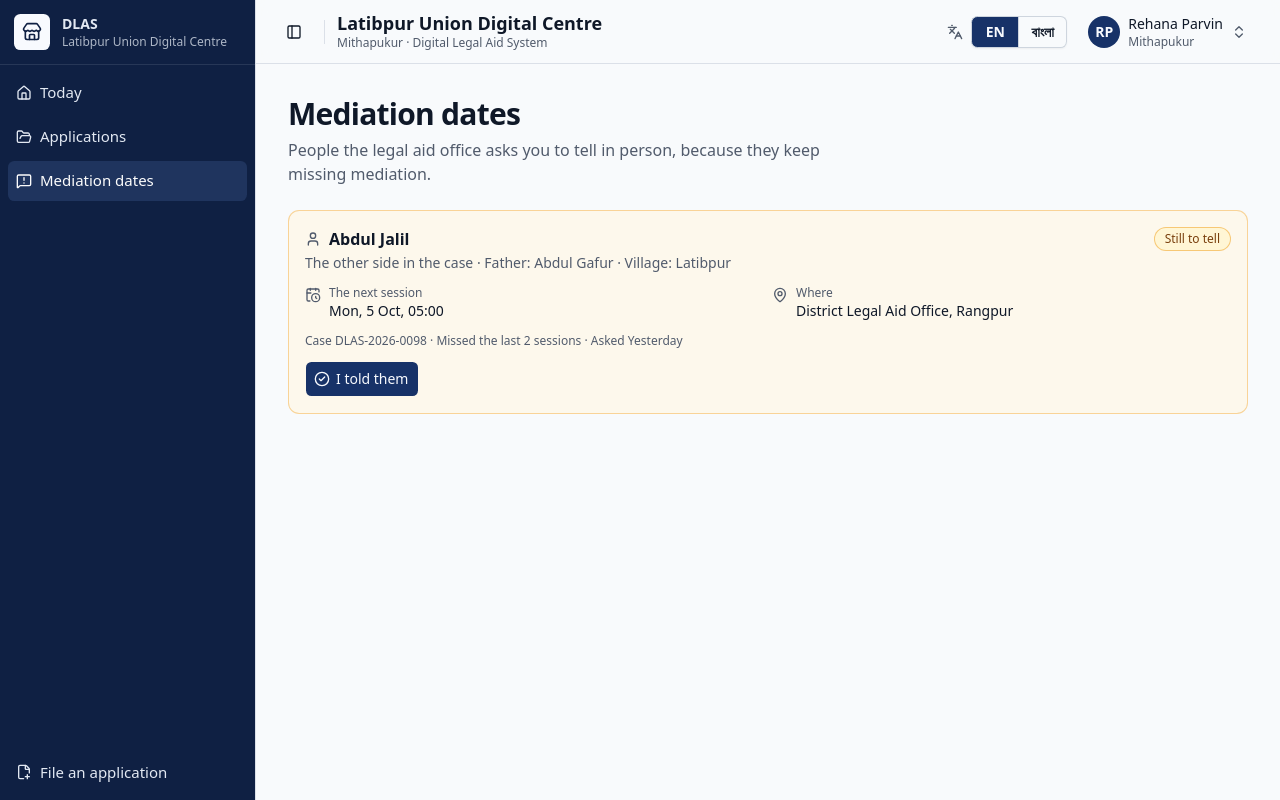
it: with a backend › marks a mediation date as passed on, with the note in the body
Click the button "I told them" at coordinates (362, 379), box left=305, top=361, right=420, bottom=397
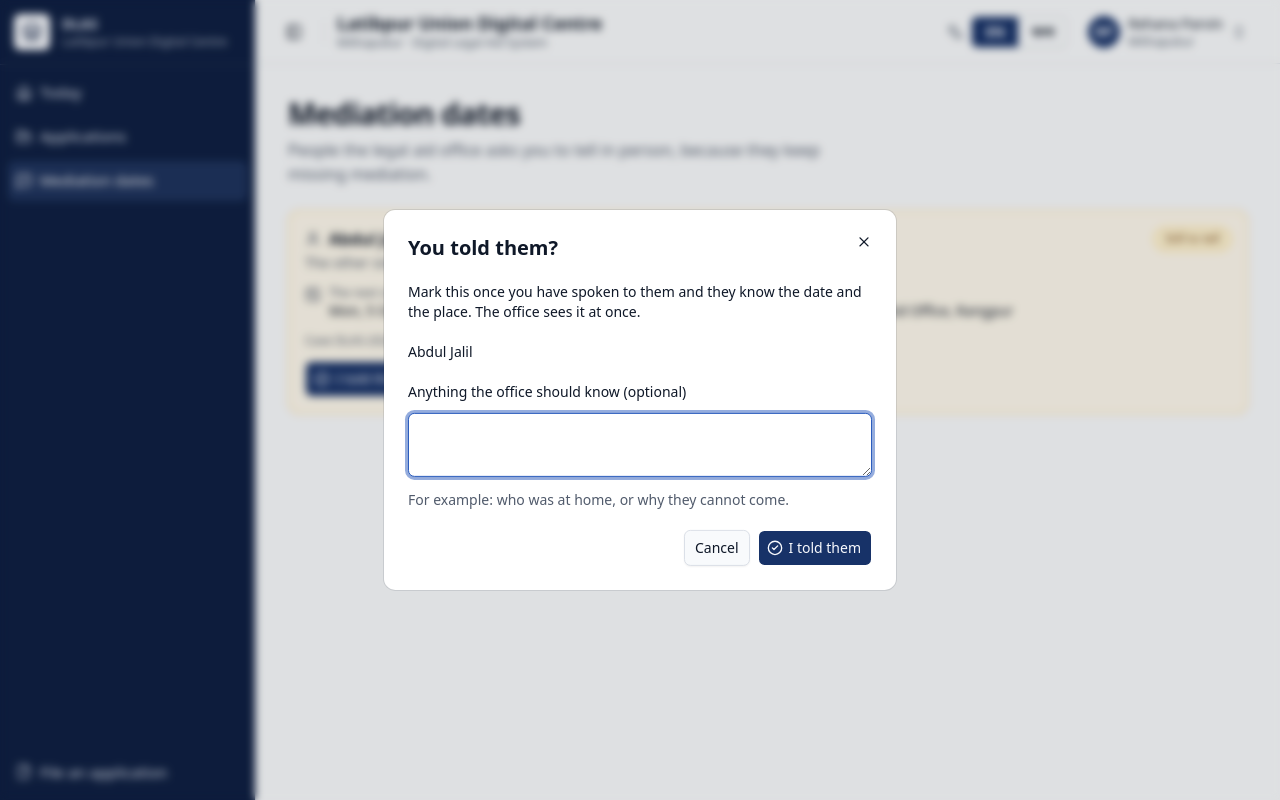
Type "His wife will tell him." into the text box labelled "Anything the office should know (optional)" at coordinates (640, 445), box left=408, top=413, right=872, bottom=477
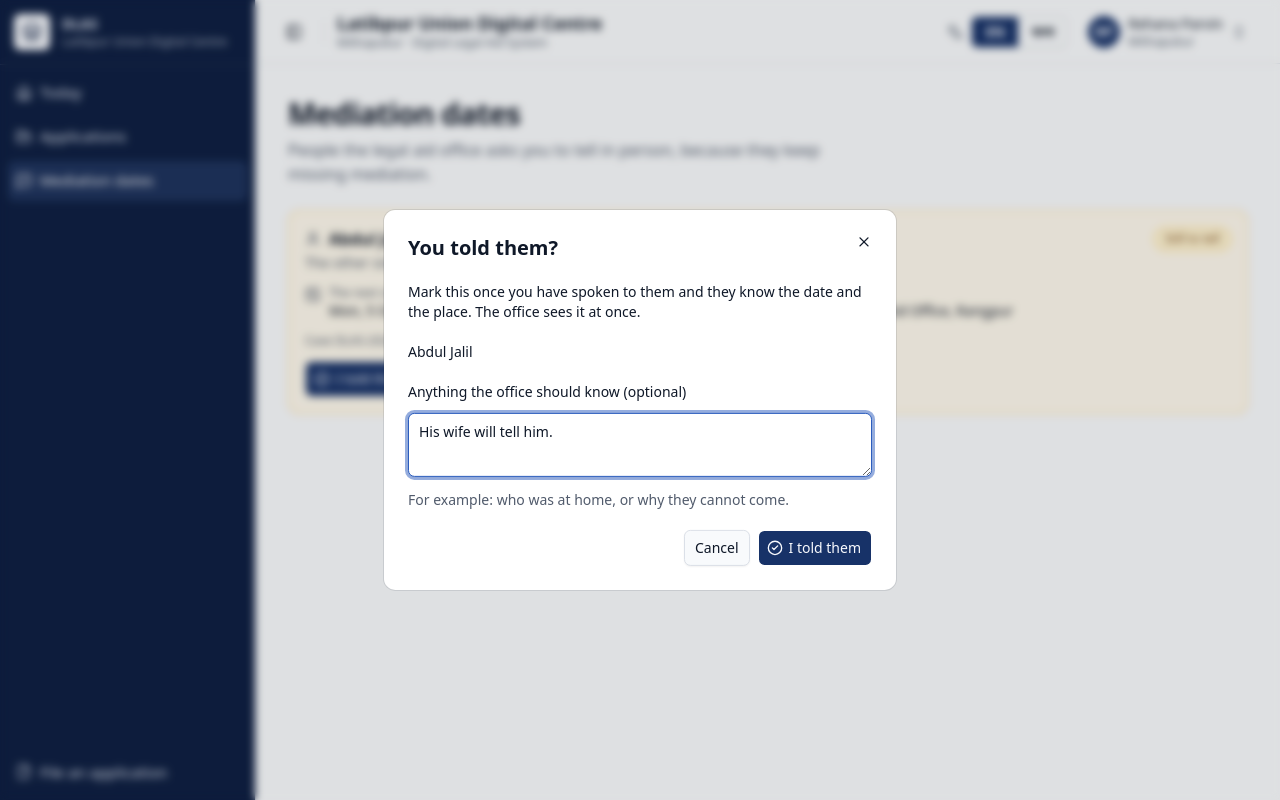
Click the button "I told them" at coordinates (815, 548), box left=758, top=530, right=872, bottom=566
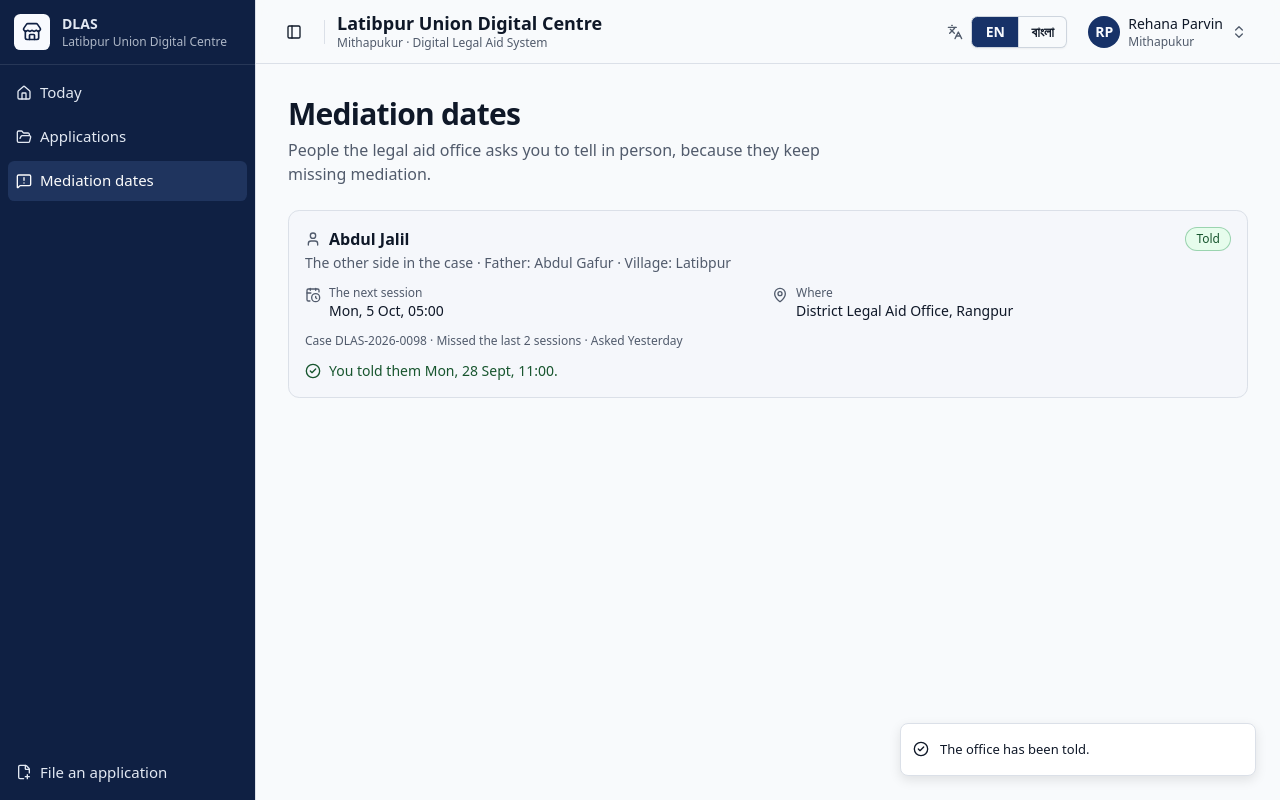
Expected: the text "The office has been told." is shown, left=940, top=740, right=1090, bottom=759
